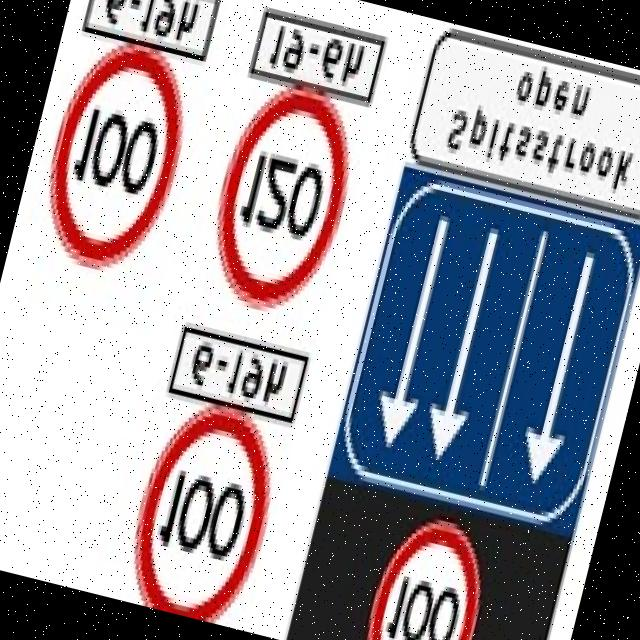speed_limit_100: (22, 26, 220, 291), (111, 391, 299, 632), (354, 508, 507, 640)
speed_limit_120: (188, 69, 374, 331)
